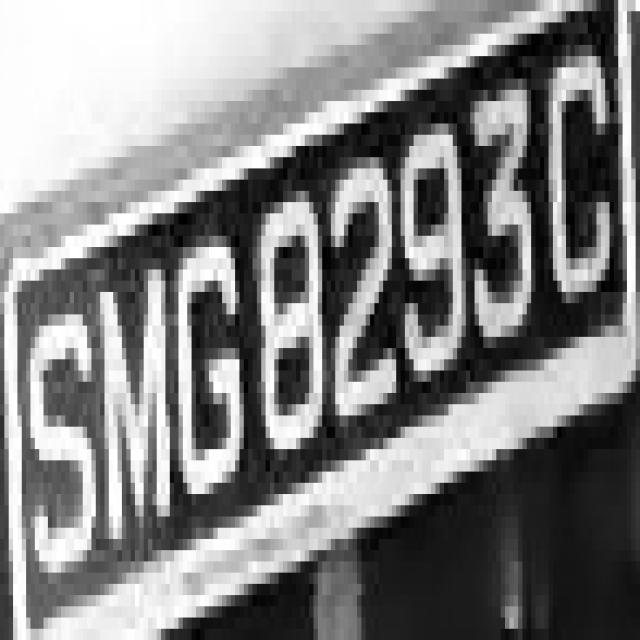2: (327, 124, 396, 449)
3: (466, 67, 544, 382)
8: (248, 202, 322, 483)
9: (401, 112, 470, 393)
C: (536, 22, 622, 337)
G: (161, 214, 248, 516)
M: (100, 247, 174, 584)
S: (22, 280, 96, 618)
